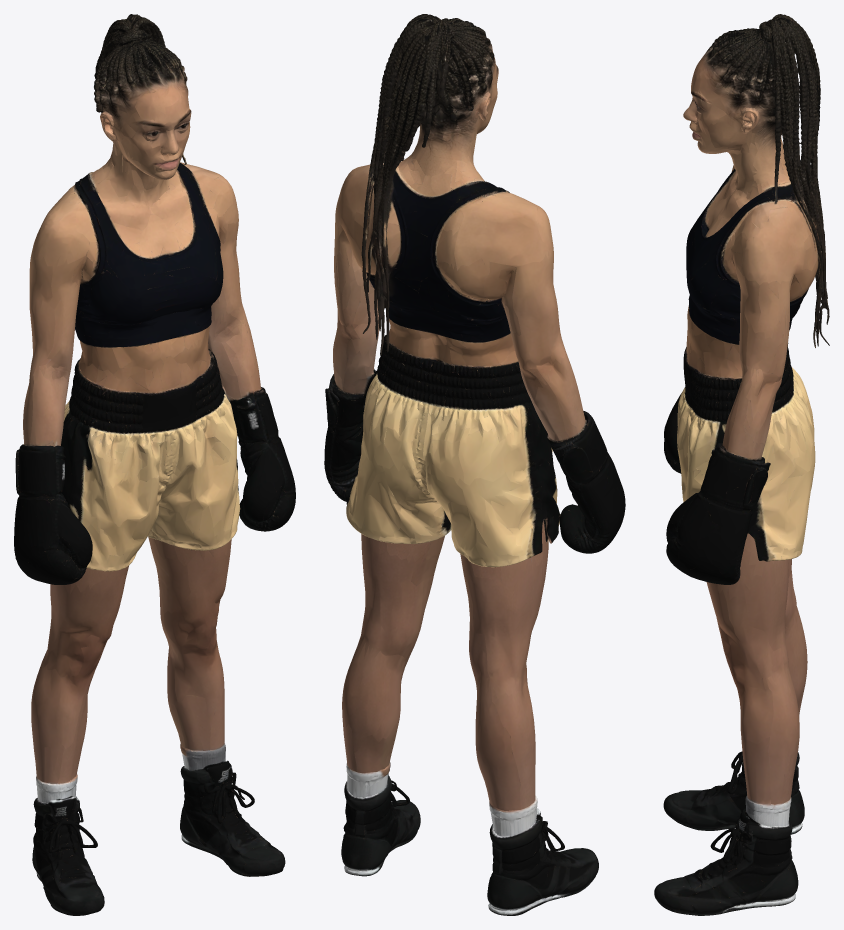
Rendered from demo-boxing-women.glb.
3 renders of one model, left to right at view 1: azimuth 30°, elevation 25°; view 2: azimuth 150°, elevation 25°; view 3: azimuth 270°, elevation 25°, orthographic. The views are drawn at different scales.
Bounding box in the file's own units: 0.6446 × 1.9 × 0.3557.
1 material, 1 textured.
